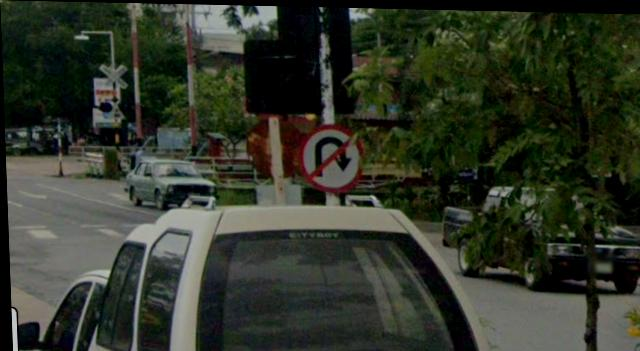not_u_turn_right: (295, 123, 369, 193)
